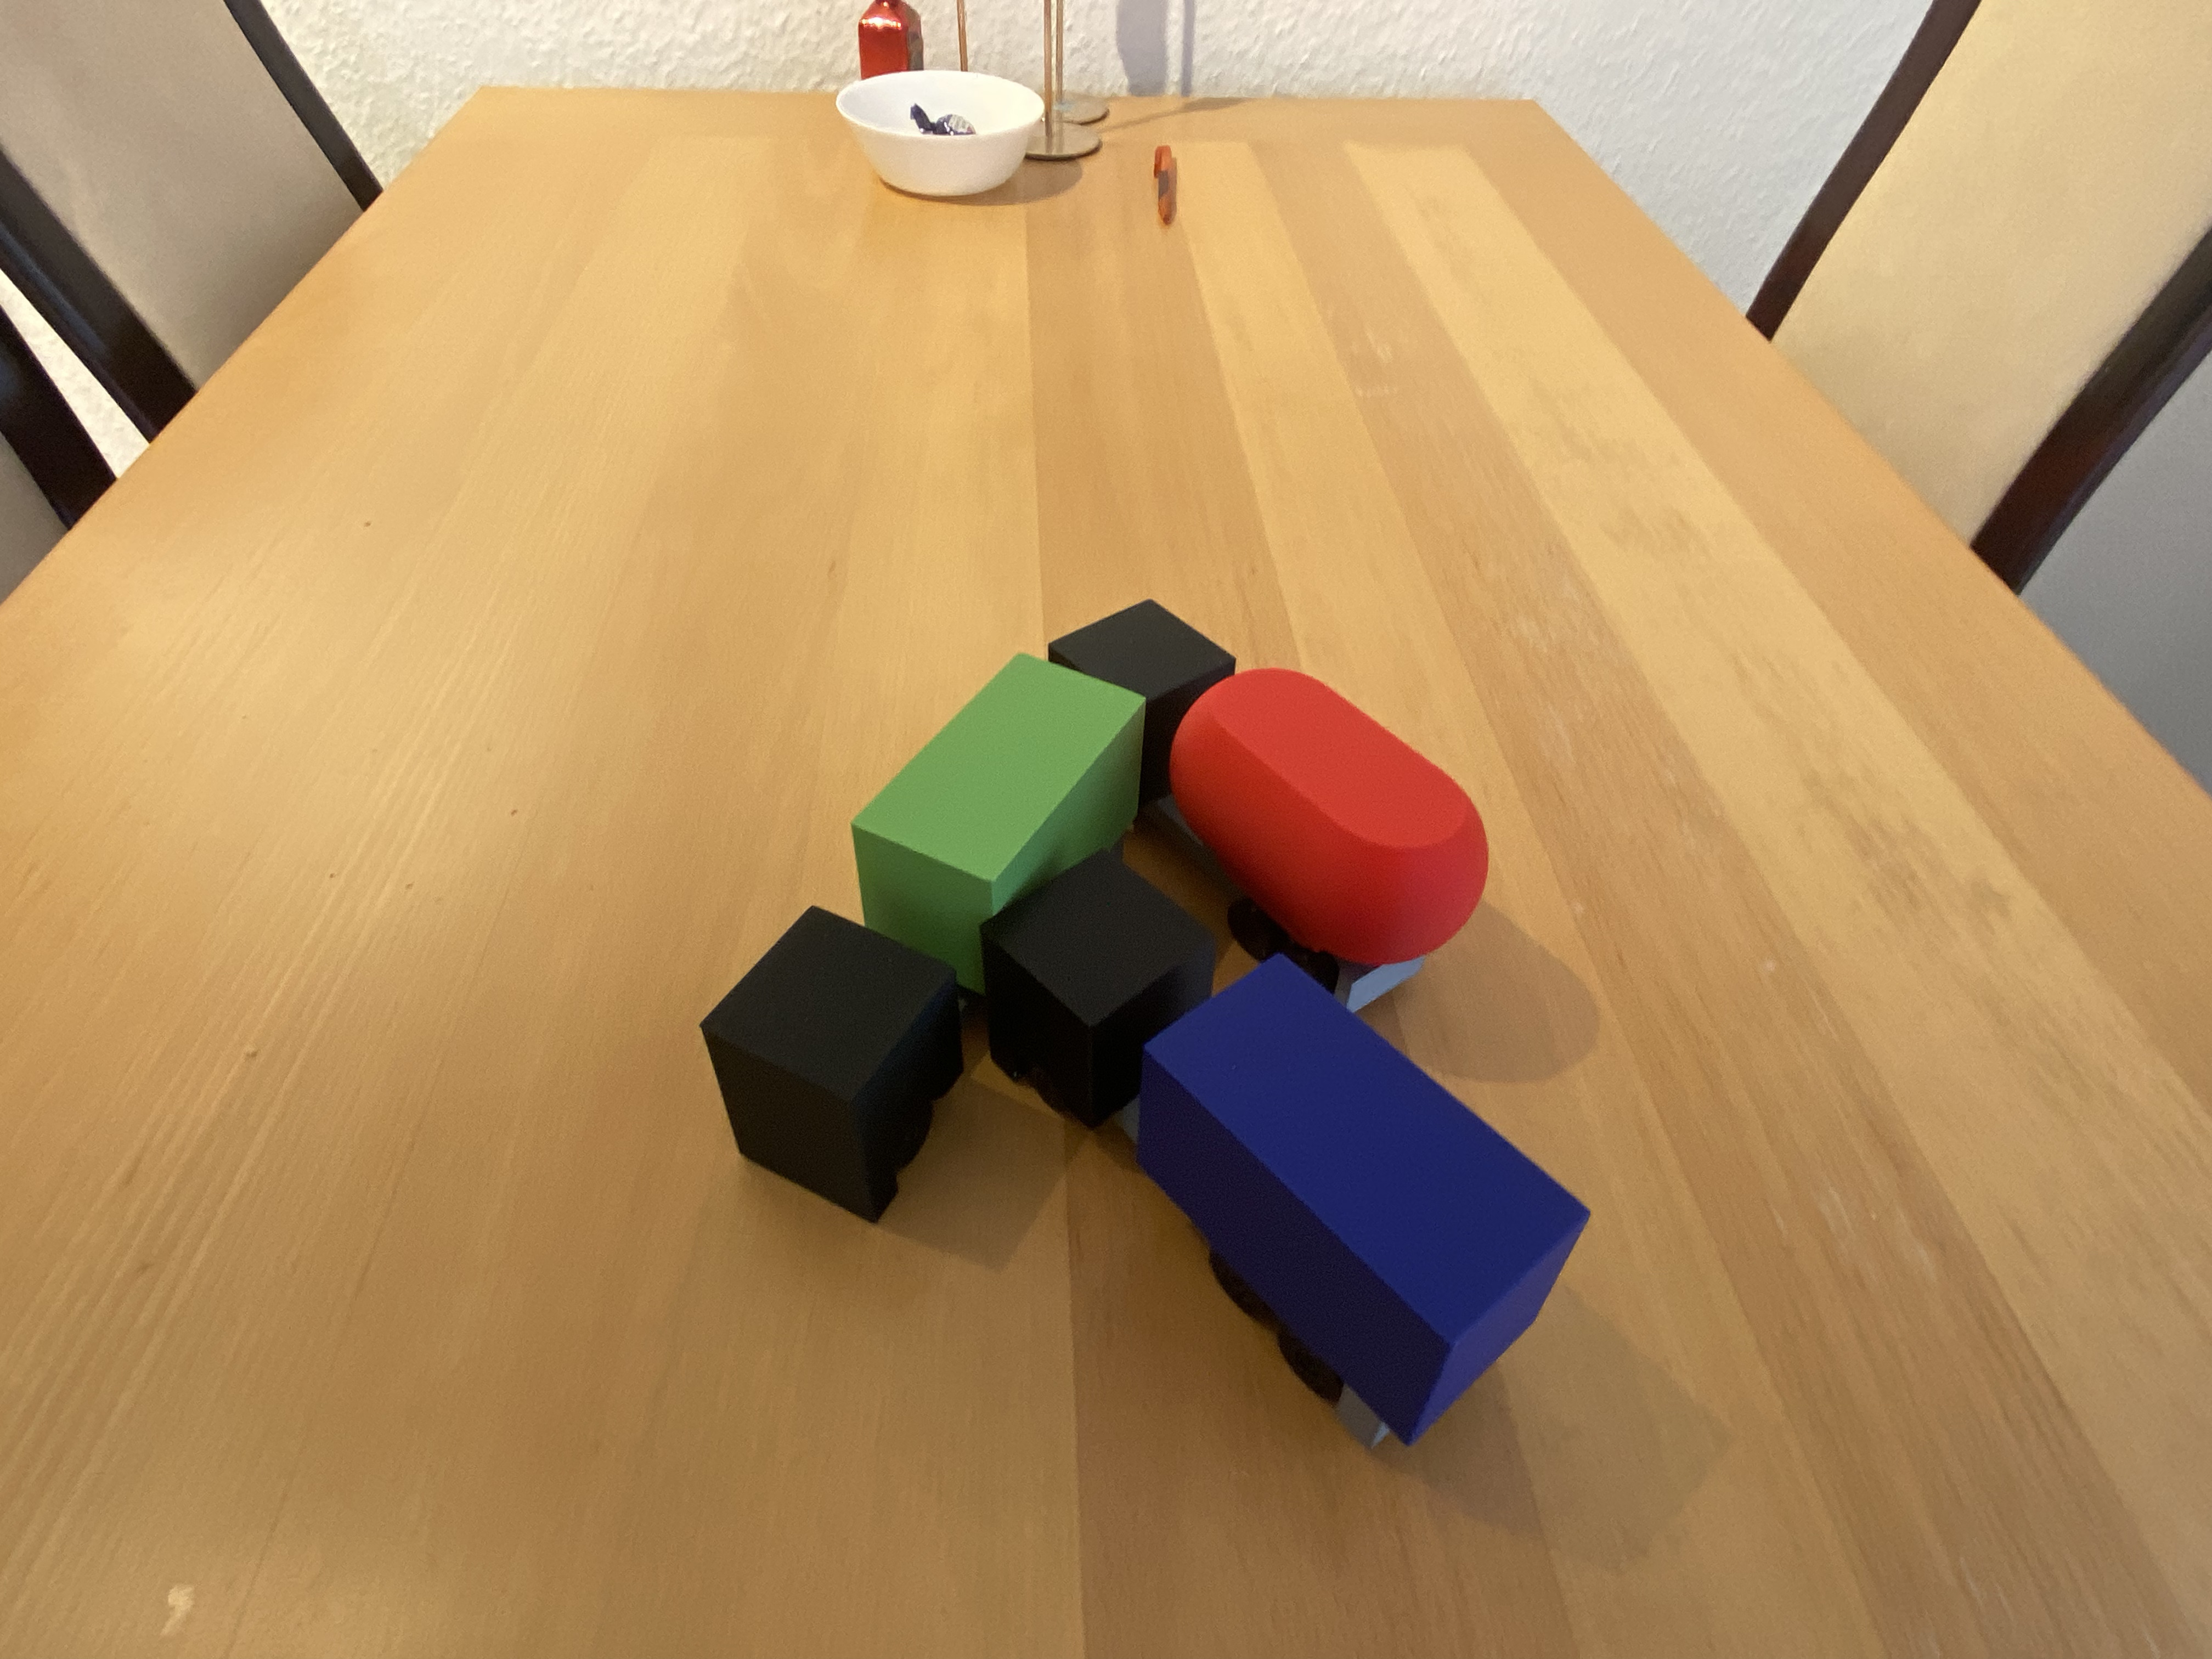blue_truck: (920, 946, 1611, 1284)
green_truck: (618, 795, 1249, 1035)
red_truck: (1014, 636, 1538, 873)
